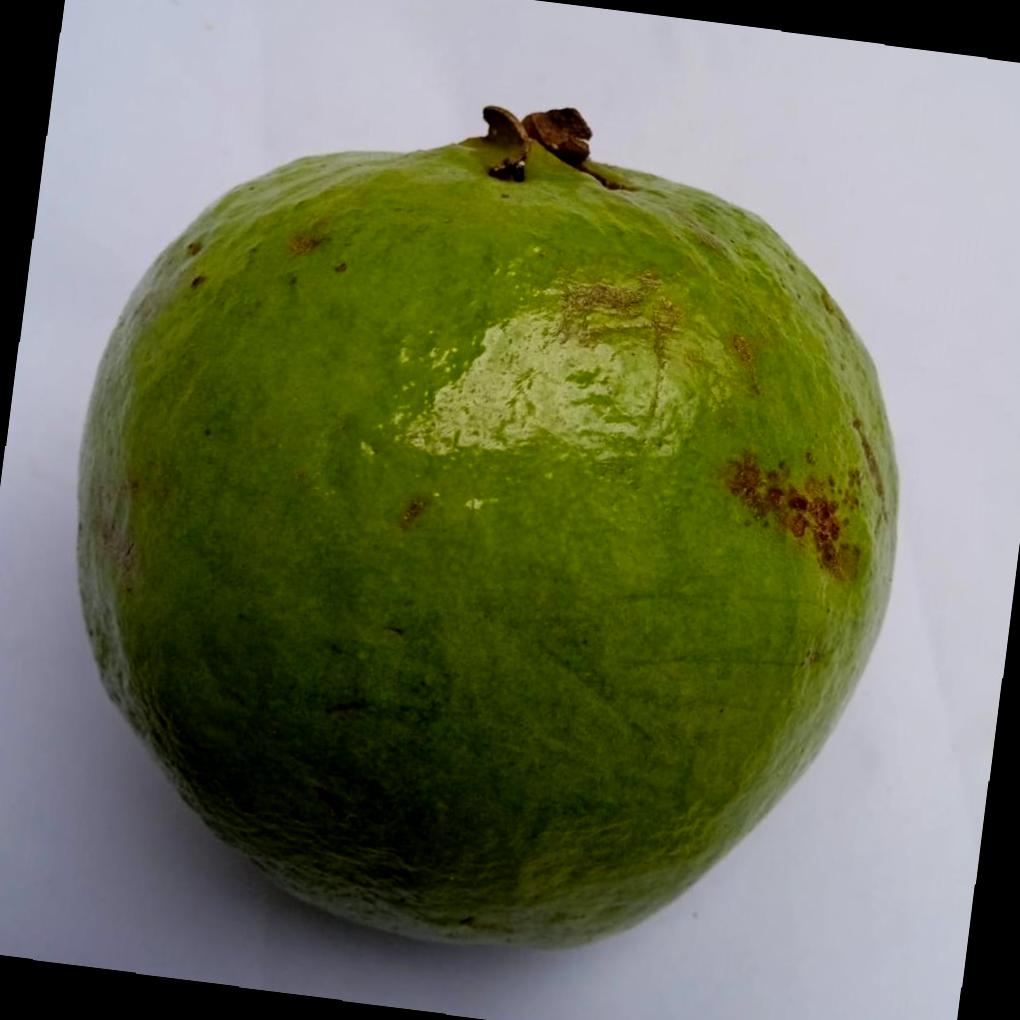FreshGuava: (74, 101, 901, 948)
